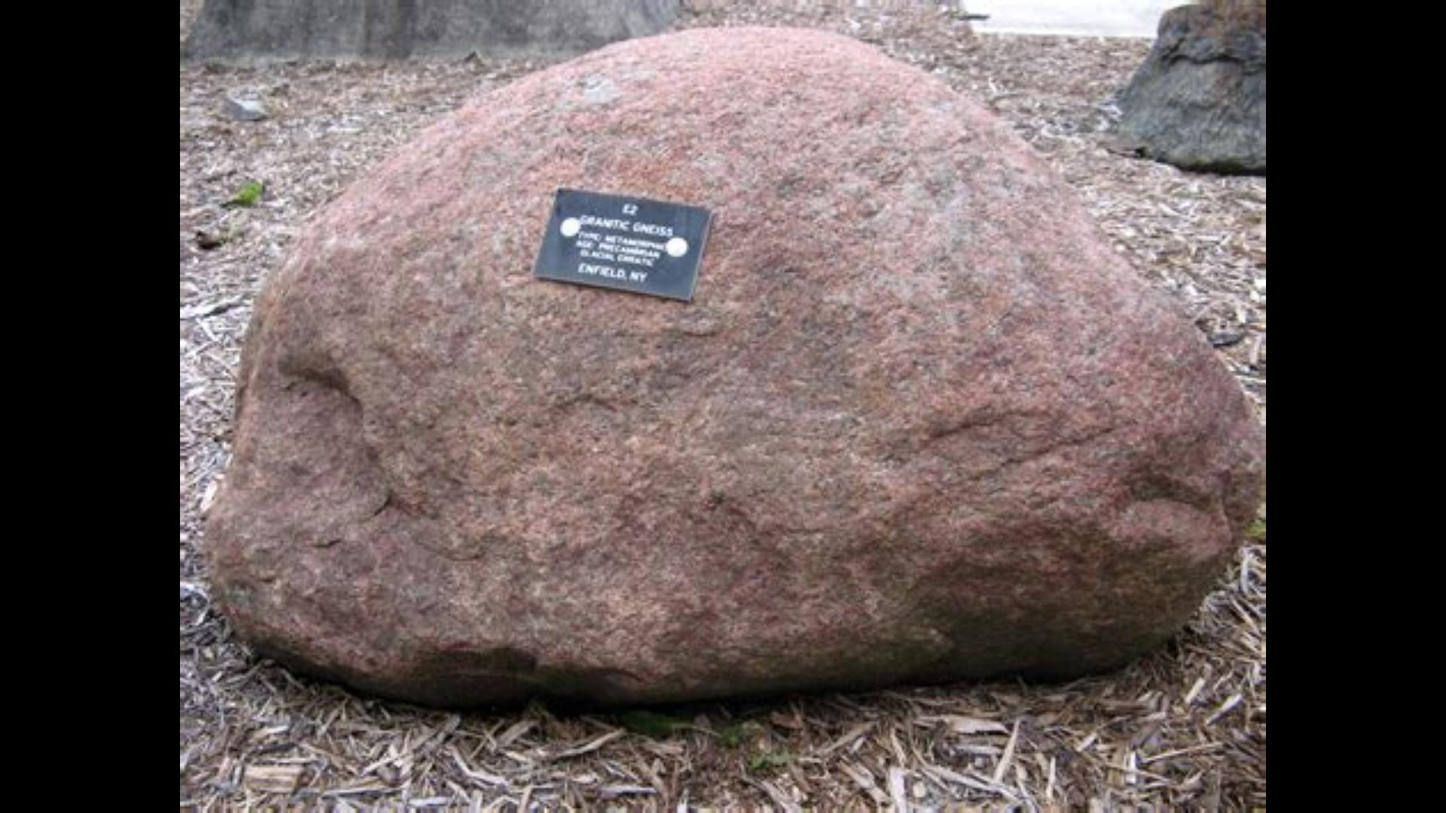rock: (207, 32, 1257, 701)
